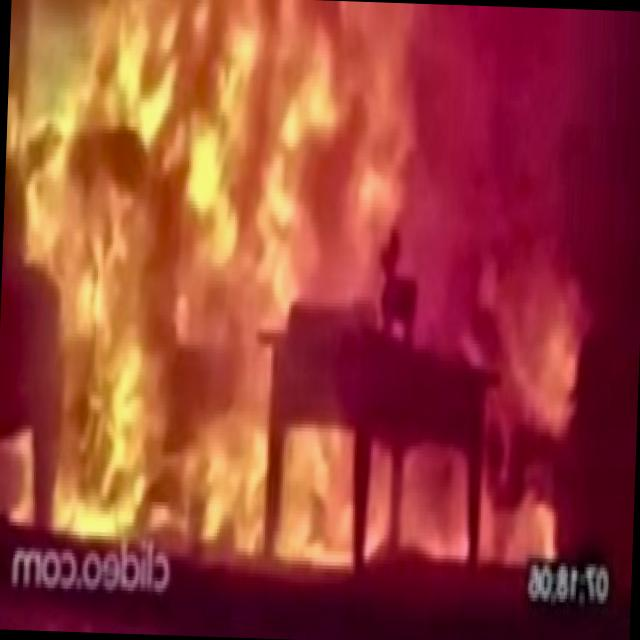fire: (0, 0, 605, 555)
